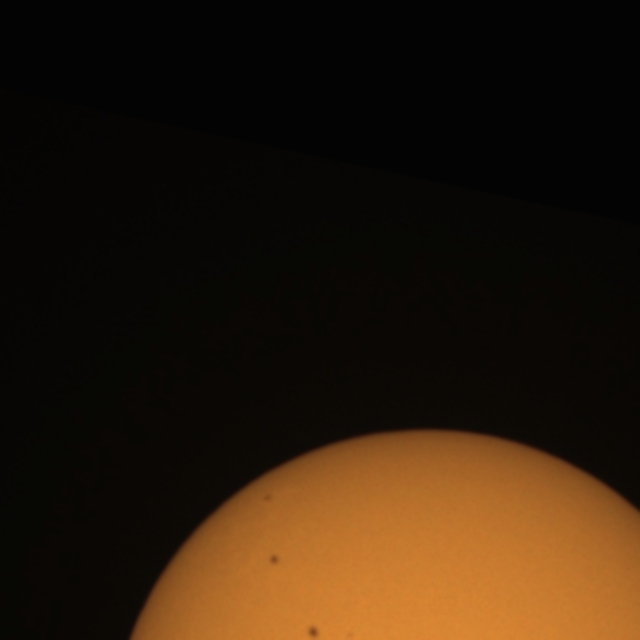sunspot: (305, 624, 322, 640), (268, 552, 281, 568), (262, 491, 274, 505), (343, 630, 358, 640)
